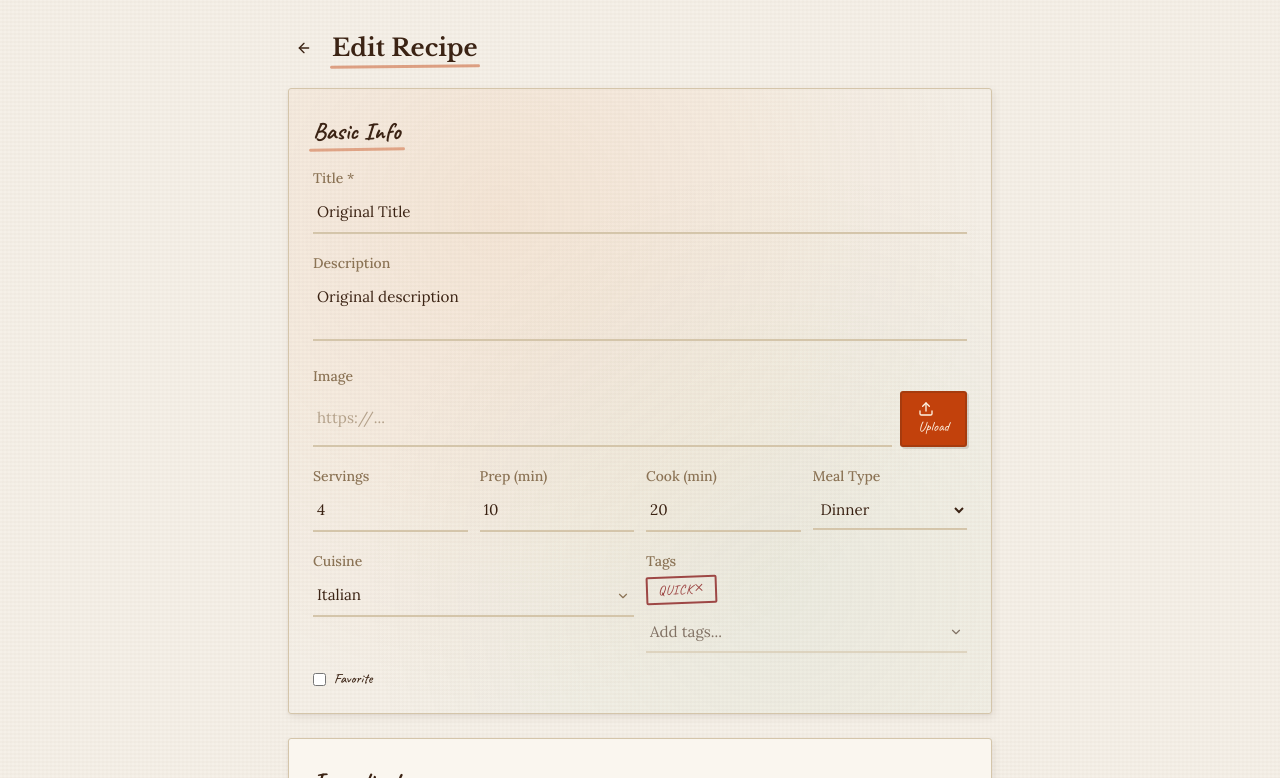
it: Recipe Edit › E1: warns when navigating away with unsaved changes
The image size is (1280, 778).
# Make a change
Replace the text in the field showing "Original Title" with "Changed Title": (640,213) [313, 193, 967, 234]
(page scrolled)
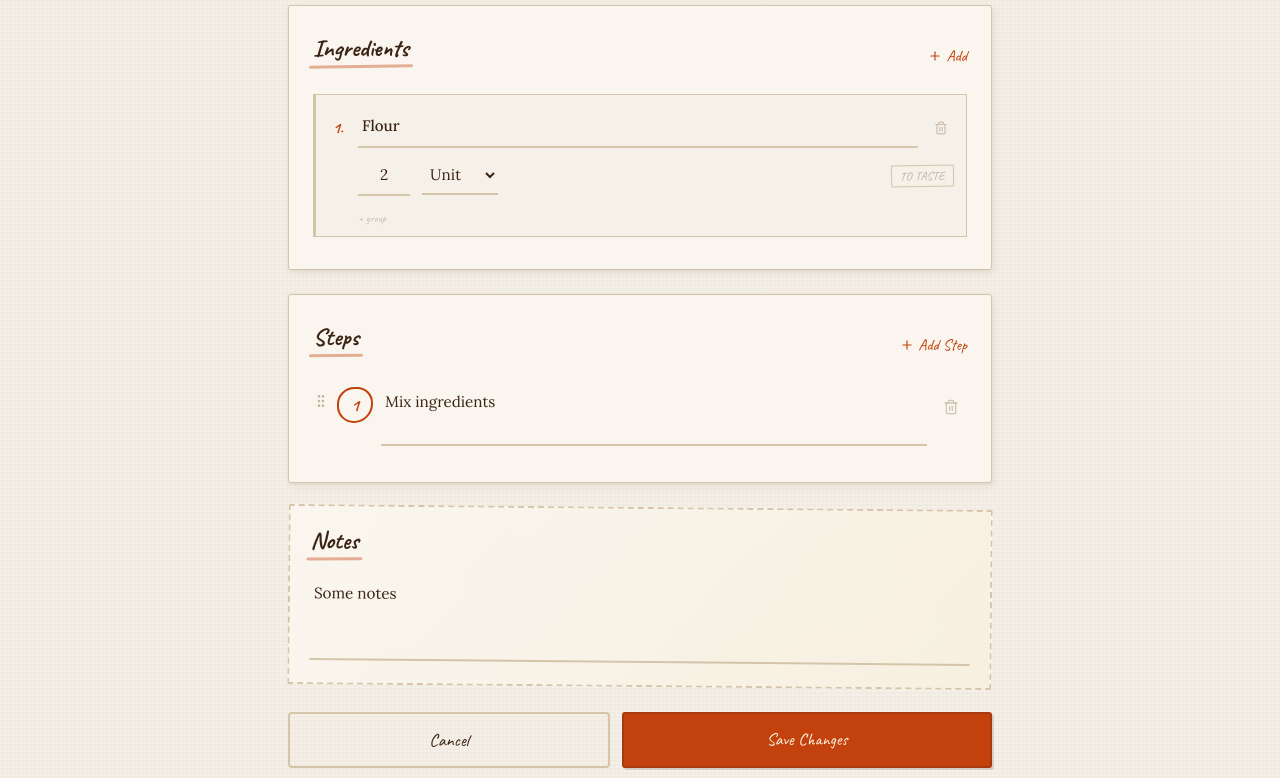
# Click cancel
Click the link "Cancel": (449,740) [288, 712, 610, 768]
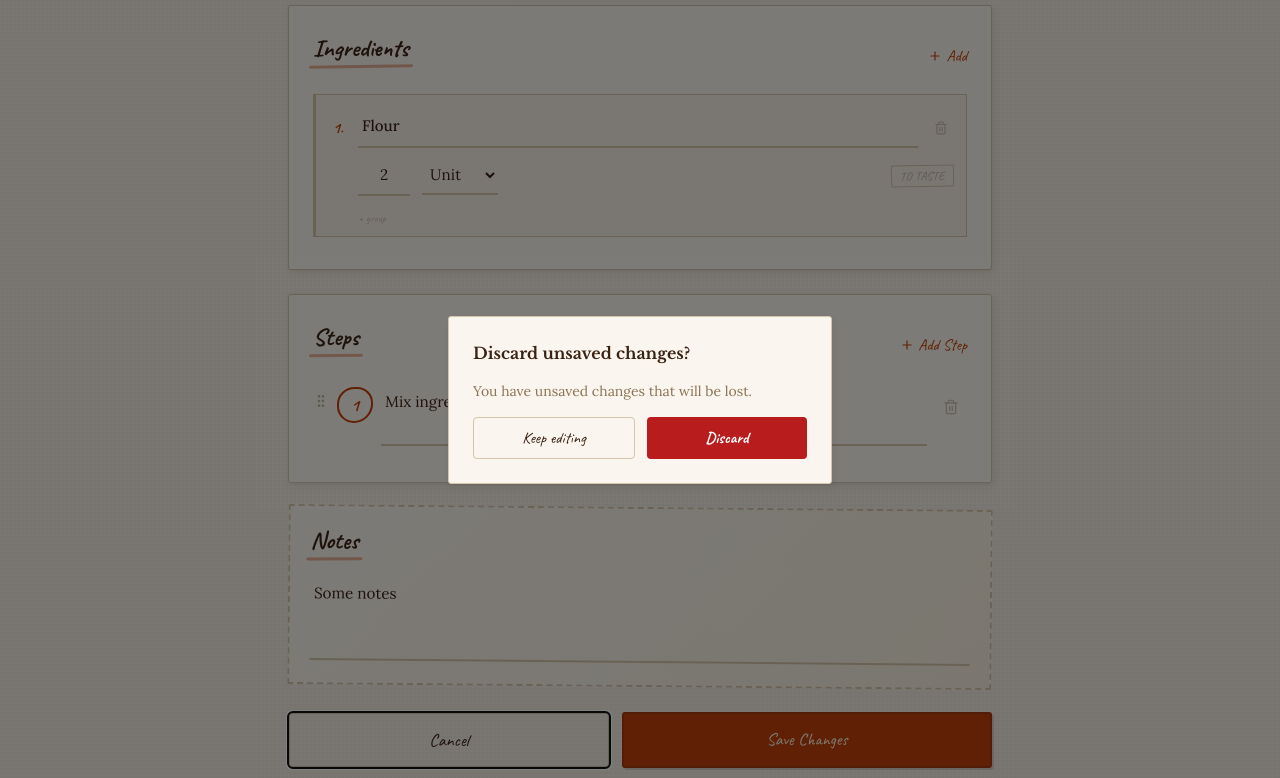
Now the heading "Discard unsaved changes?" is shown, box [473, 343, 690, 363]
